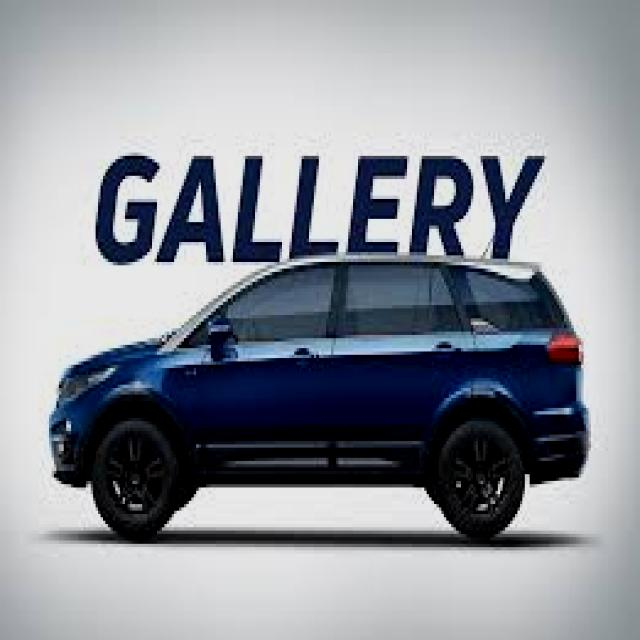SUV: (45, 255, 580, 545)
